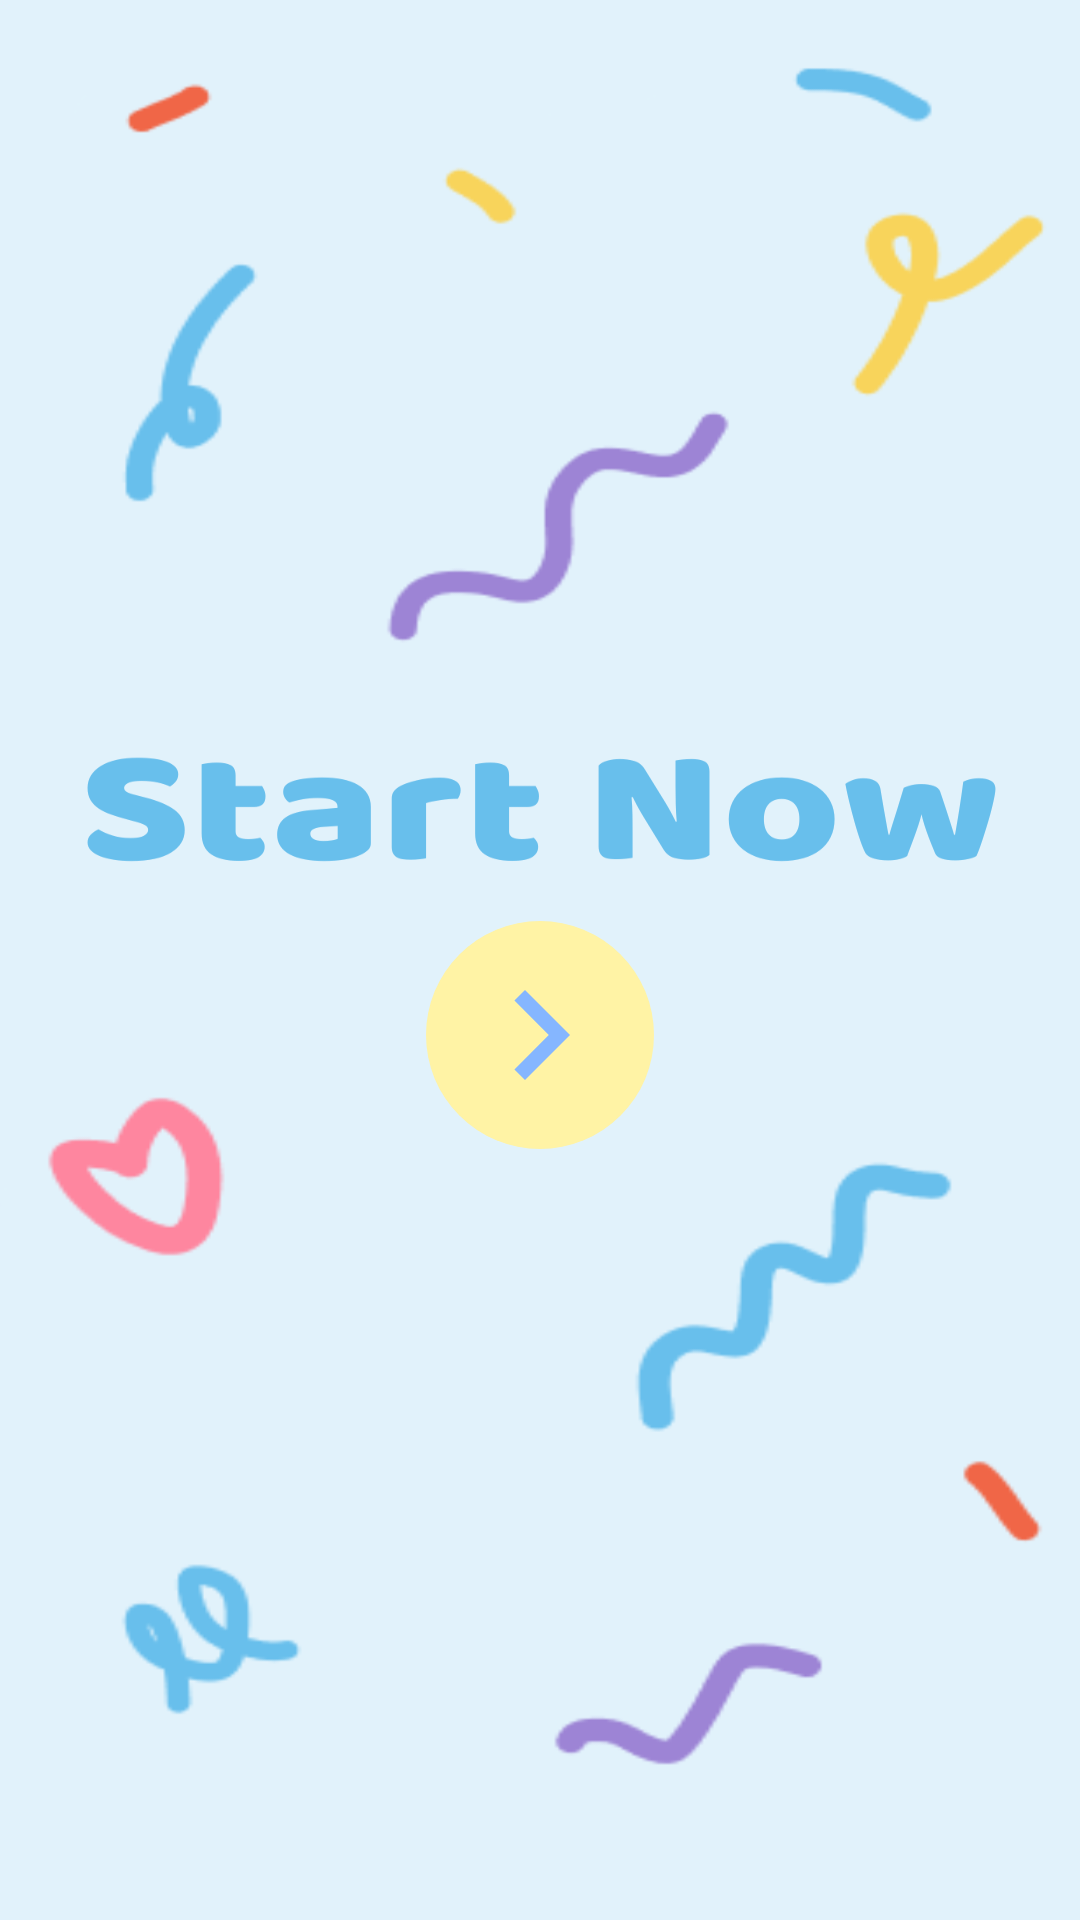

Named icons in this screenshot (1080px×1920px) and their centers, [x,y]:
Next: [540,1035]
